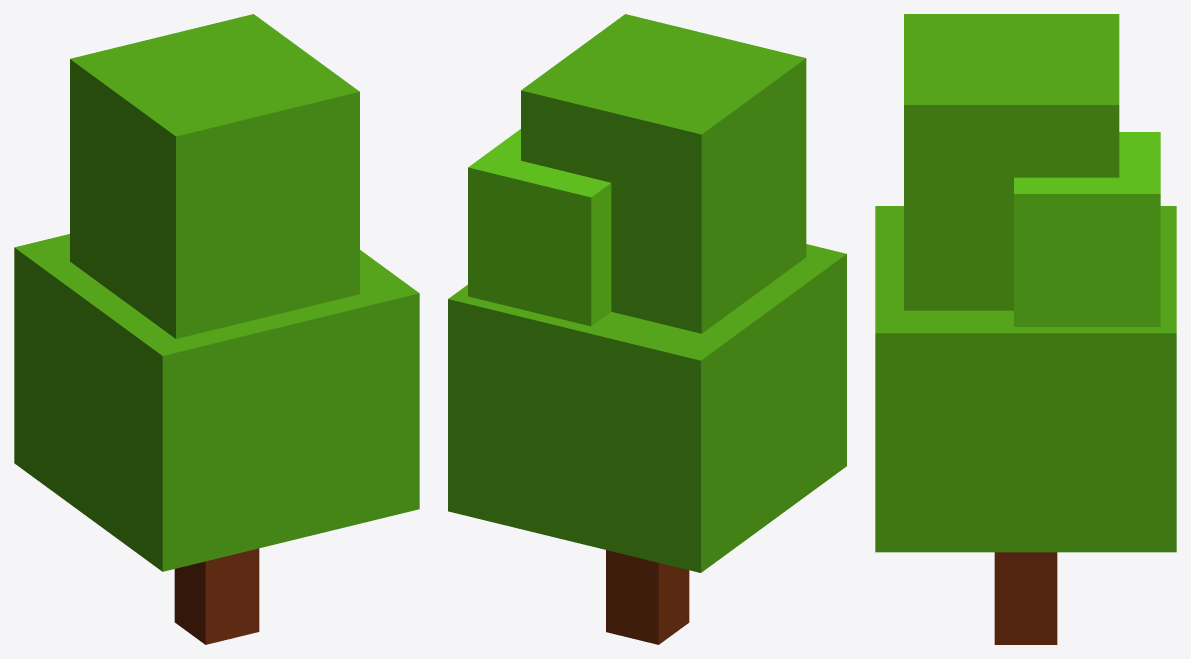
The model's file is Tree_Tall_Green_02_Light.fbx.
3 renders of one model, left to right at view 1: azimuth 30°, elevation 25°; view 2: azimuth 150°, elevation 25°; view 3: azimuth 270°, elevation 25°, orthographic. The views are drawn at different scales.
Visible parts, largest first — view 1: Cube; view 2: Cube; view 3: Cube.
Boxes of the visible parts, x1,y1,x2,y2 form: Cube: [14, 14, 419, 644]; Cube: [448, 14, 846, 644]; Cube: [875, 14, 1176, 644].
Bounding box in the file's own units: 0.9559 × 1.99 × 0.9559.
